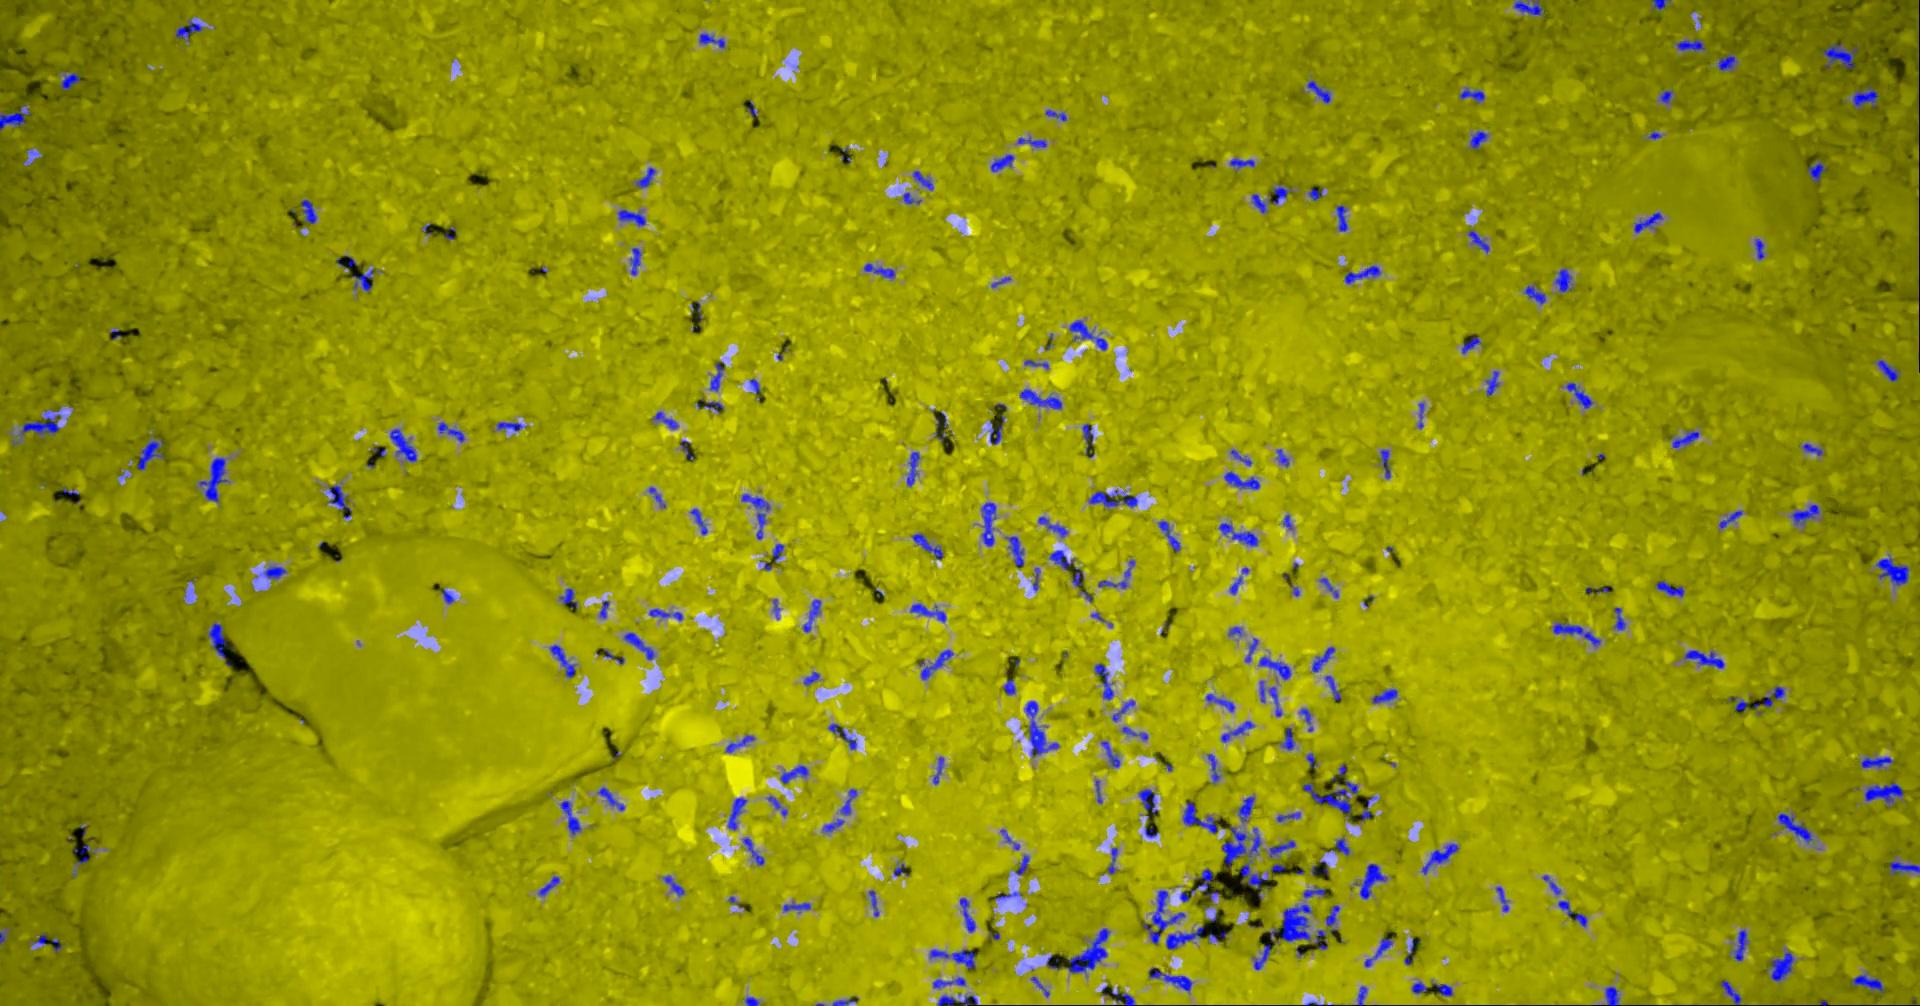ant: (1253, 903, 1312, 969), (1046, 927, 1109, 973), (1142, 890, 1183, 944), (1302, 777, 1357, 815), (1025, 700, 1058, 756), (1222, 826, 1260, 868), (20, 406, 60, 439), (198, 457, 227, 502), (1182, 801, 1223, 833), (742, 493, 770, 539), (1251, 183, 1291, 213), (1069, 319, 1107, 351), (1552, 622, 1600, 647), (1354, 862, 1385, 898), (1421, 843, 1458, 874), (1239, 861, 1267, 901), (917, 649, 952, 680), (1777, 813, 1812, 843), (1097, 559, 1134, 588), (1148, 967, 1192, 989), (1218, 522, 1257, 546), (1164, 925, 1204, 949), (930, 949, 975, 969), (389, 428, 417, 461), (1876, 558, 1909, 586), (1821, 43, 1858, 67), (549, 644, 575, 677), (1018, 387, 1062, 408), (208, 622, 231, 661), (1088, 489, 1137, 507), (1258, 680, 1281, 716), (910, 533, 943, 559), (136, 439, 163, 470), (623, 633, 654, 659), (1194, 868, 1219, 899), (1864, 782, 1903, 803), (1257, 655, 1290, 680), (827, 723, 856, 749), (1364, 937, 1390, 967), (1557, 901, 1587, 926), (328, 485, 350, 518), (1684, 649, 1723, 668), (559, 800, 580, 835), (0, 105, 30, 130), (1220, 720, 1253, 742), (1564, 382, 1592, 408), (1769, 951, 1793, 981), (1158, 520, 1180, 551), (1752, 686, 1784, 708), (1223, 470, 1258, 489), (1101, 984, 1134, 1005), (1343, 265, 1380, 283), (909, 603, 945, 621), (1095, 663, 1112, 699), (1037, 516, 1067, 537), (1851, 974, 1884, 993), (982, 502, 996, 546), (1310, 647, 1335, 672), (597, 788, 623, 810), (742, 837, 763, 865), (1633, 212, 1662, 232), (728, 796, 745, 829), (959, 897, 975, 932), (1305, 79, 1330, 103), (1004, 536, 1023, 567), (352, 268, 378, 290), (1790, 504, 1818, 525), (803, 600, 820, 631), (437, 422, 463, 442), (1138, 788, 1157, 815), (1467, 230, 1490, 253), (1111, 699, 1134, 721), (1205, 694, 1234, 711), (725, 734, 754, 752), (1851, 86, 1877, 107), (1719, 979, 1740, 1005), (1100, 741, 1119, 767), (780, 765, 808, 782), (1876, 359, 1898, 381), (1049, 550, 1073, 570), (175, 19, 201, 38), (905, 451, 919, 485), (1512, 0, 1543, 15), (709, 361, 724, 391), (617, 210, 645, 226), (839, 788, 856, 815), (690, 508, 707, 533), (1237, 796, 1255, 822), (989, 415, 1004, 445), (1733, 929, 1747, 960), (1269, 840, 1295, 856), (1403, 937, 1420, 964), (912, 170, 933, 191), (537, 875, 559, 895), (662, 875, 683, 895), (1523, 285, 1545, 304), (863, 263, 894, 277), (1655, 580, 1683, 596), (937, 995, 979, 1005), (1672, 431, 1698, 447), (635, 166, 655, 187), (767, 795, 787, 815), (990, 154, 1013, 171), (1807, 160, 1825, 183), (300, 199, 316, 224), (1554, 268, 1571, 292), (653, 412, 677, 428), (1718, 511, 1742, 527), (1360, 796, 1377, 821), (648, 608, 682, 620), (1324, 904, 1338, 932), (1459, 86, 1484, 102), (1319, 577, 1338, 597), (1324, 674, 1340, 700), (932, 977, 965, 988), (1484, 370, 1498, 396), (696, 398, 723, 412), (1017, 135, 1046, 147), (935, 412, 947, 441), (1890, 861, 1919, 874), (1860, 756, 1892, 767), (999, 829, 1018, 848), (648, 486, 665, 507), (1542, 874, 1559, 894), (698, 33, 724, 47), (1371, 688, 1397, 702), (1081, 423, 1092, 453), (1335, 205, 1347, 231), (559, 588, 577, 607), (1123, 727, 1147, 741), (1495, 887, 1509, 911), (1717, 53, 1737, 70), (60, 72, 80, 89), (1230, 448, 1251, 465), (72, 843, 89, 864), (1675, 39, 1704, 51), (629, 246, 640, 276), (1379, 448, 1390, 478), (1208, 753, 1219, 782), (335, 255, 357, 271), (932, 756, 943, 784), (1470, 130, 1487, 149), (1462, 337, 1481, 353), (1244, 638, 1257, 662), (1613, 607, 1625, 630), (1299, 708, 1312, 730), (1281, 727, 1294, 749), (1604, 986, 1619, 1005), (497, 420, 524, 431), (1015, 854, 1029, 874), (782, 901, 810, 911), (1276, 810, 1300, 822), (822, 818, 843, 831), (263, 567, 286, 578), (1302, 885, 1324, 897), (1229, 158, 1255, 168), (681, 439, 693, 460), (1107, 847, 1117, 873), (1314, 929, 1327, 949), (1728, 696, 1746, 710), (1335, 837, 1349, 855), (1802, 443, 1823, 455), (1070, 567, 1083, 586), (1229, 575, 1242, 594), (803, 671, 819, 685), (869, 890, 877, 916), (1754, 238, 1764, 259), (749, 379, 759, 400), (772, 542, 783, 561), (1023, 359, 1048, 368), (1411, 981, 1427, 993), (1045, 109, 1065, 119), (902, 192, 919, 203), (1276, 448, 1288, 466), (1434, 983, 1451, 995), (1658, 89, 1672, 103), (441, 588, 453, 603), (599, 600, 610, 619), (1357, 984, 1366, 1005), (1003, 678, 1015, 694), (1308, 188, 1322, 199), (1651, 0, 1669, 9), (745, 996, 758, 1005)
